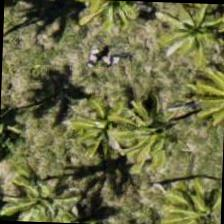Kelapa_Sawit: (51, 77, 144, 170), (97, 76, 190, 168), (133, 1, 223, 88), (0, 153, 85, 223), (64, 0, 157, 58), (152, 160, 222, 223)
